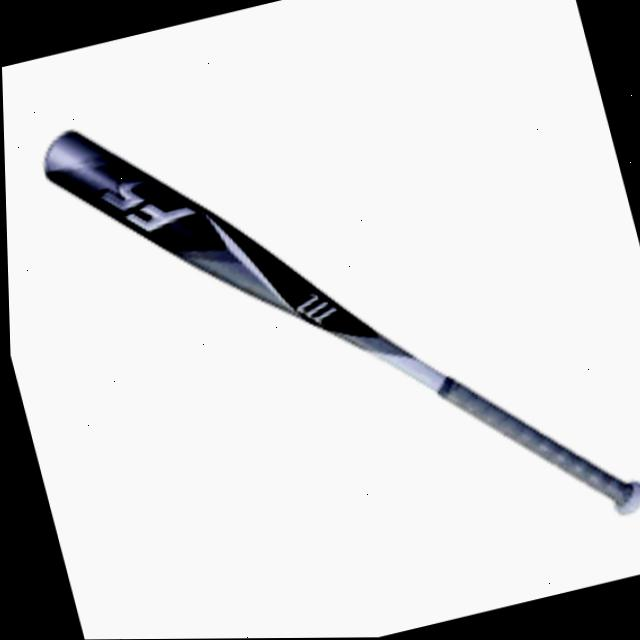baseball bat: (38, 122, 637, 514)
